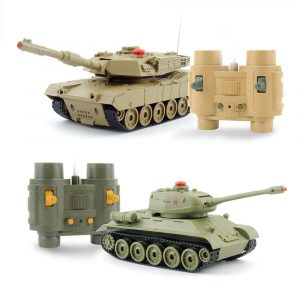Battle Tank: (17, 39, 194, 133), (95, 185, 285, 272)
